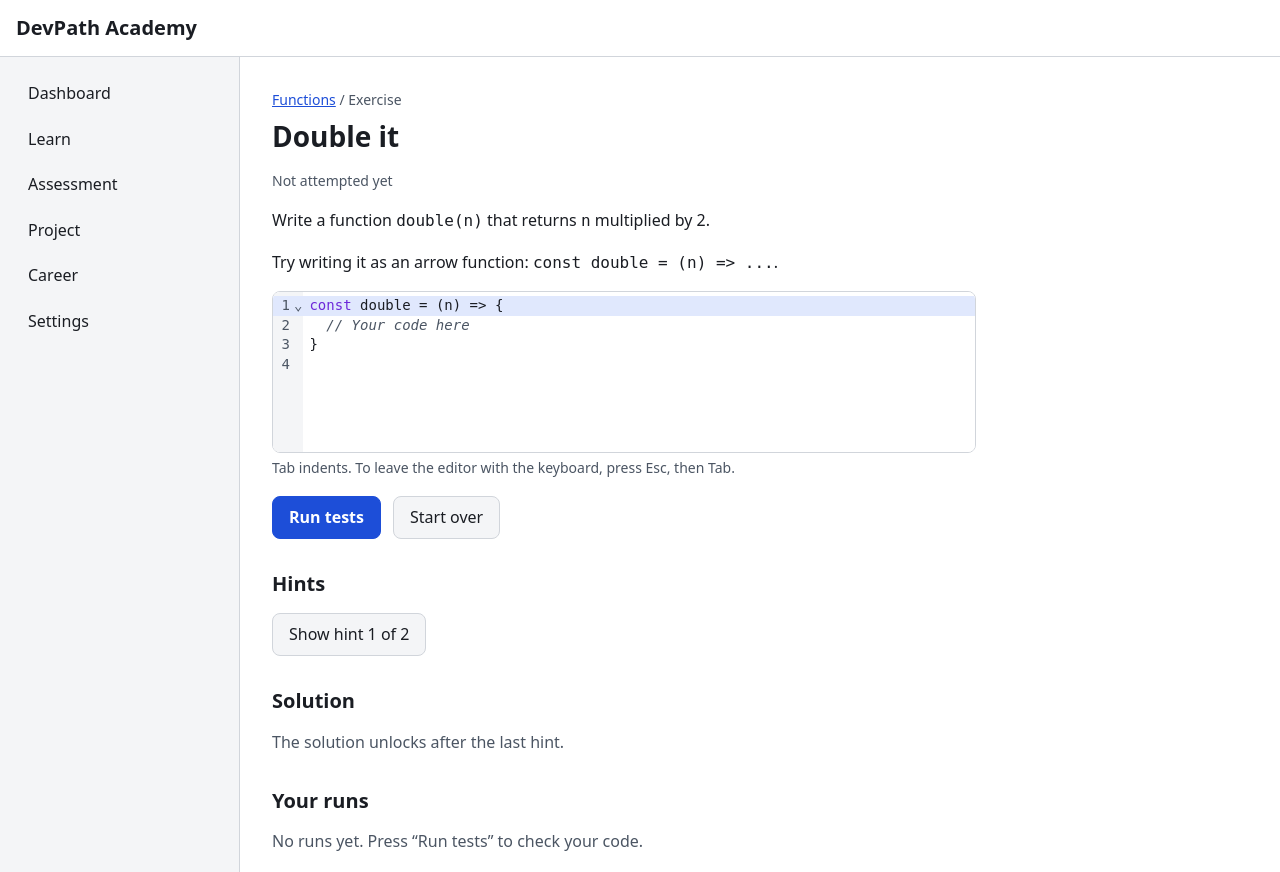
Test: hints and solution › reveals hints one at a time, then unlocks the solution
Expected: the field labelled "Your code" is shown, x1=303 y1=296 x2=975 y2=352
Expected: the text "The solution unlocks after the last hint." is shown, x1=272 y1=731 x2=564 y2=753
Click the button "Show hint 1 of 2".
click(349, 635)  # box x1=272 y1=613 x2=426 y2=656
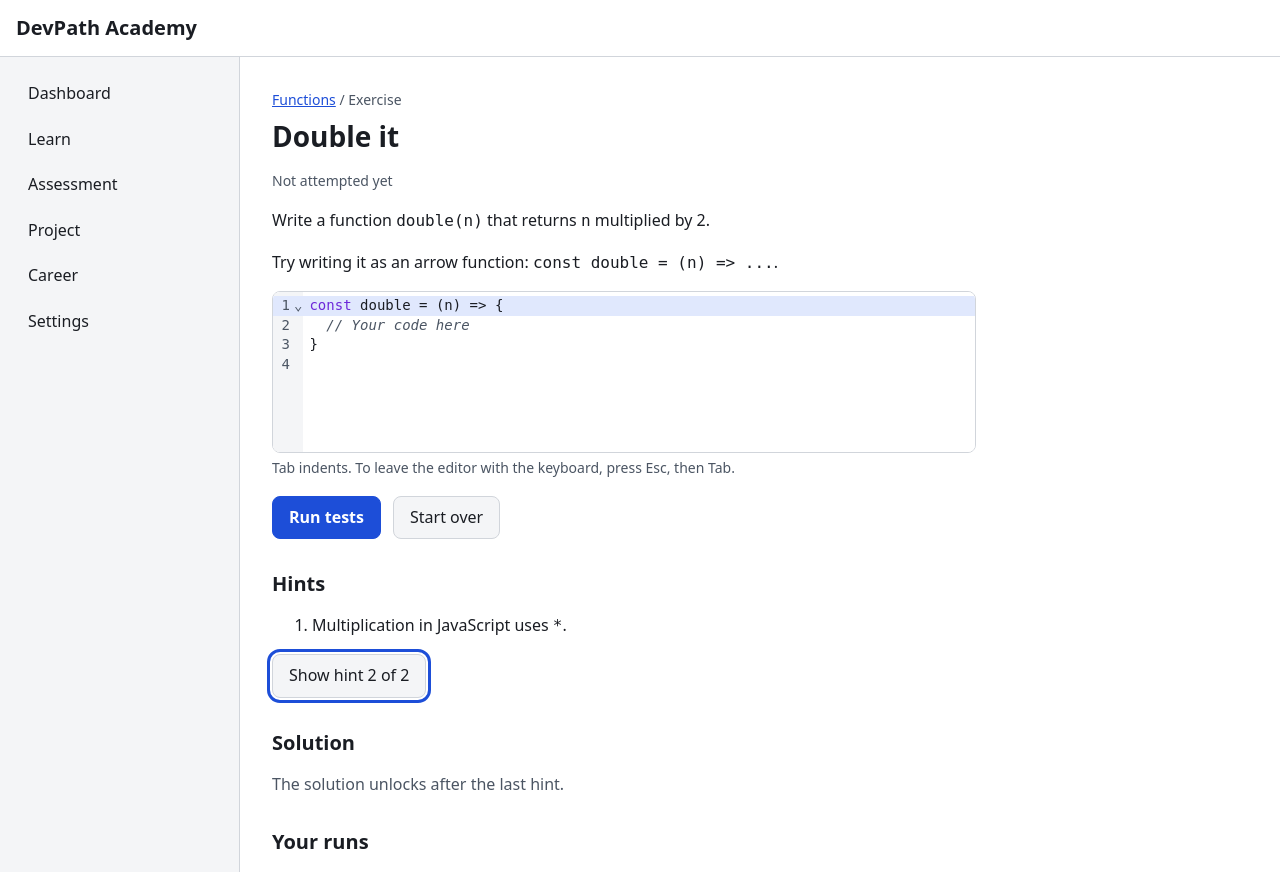
Click the button "Show hint 2 of 2".
click(349, 676)  # box x1=272 y1=654 x2=426 y2=698
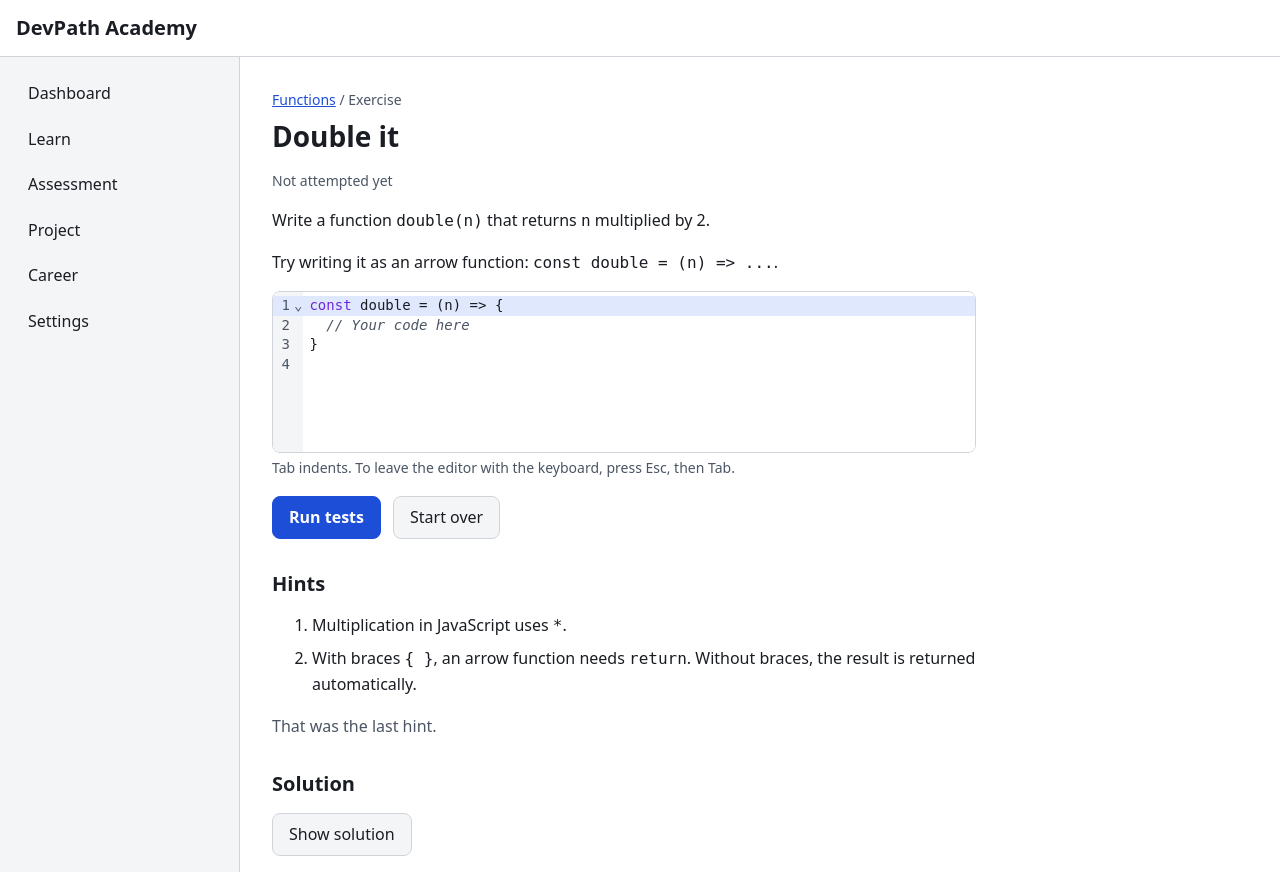
Expected: the text "That was the last hint." is shown, x1=272 y1=715 x2=437 y2=737
Expected: the button "Show solution" is shown, x1=272 y1=813 x2=412 y2=856
